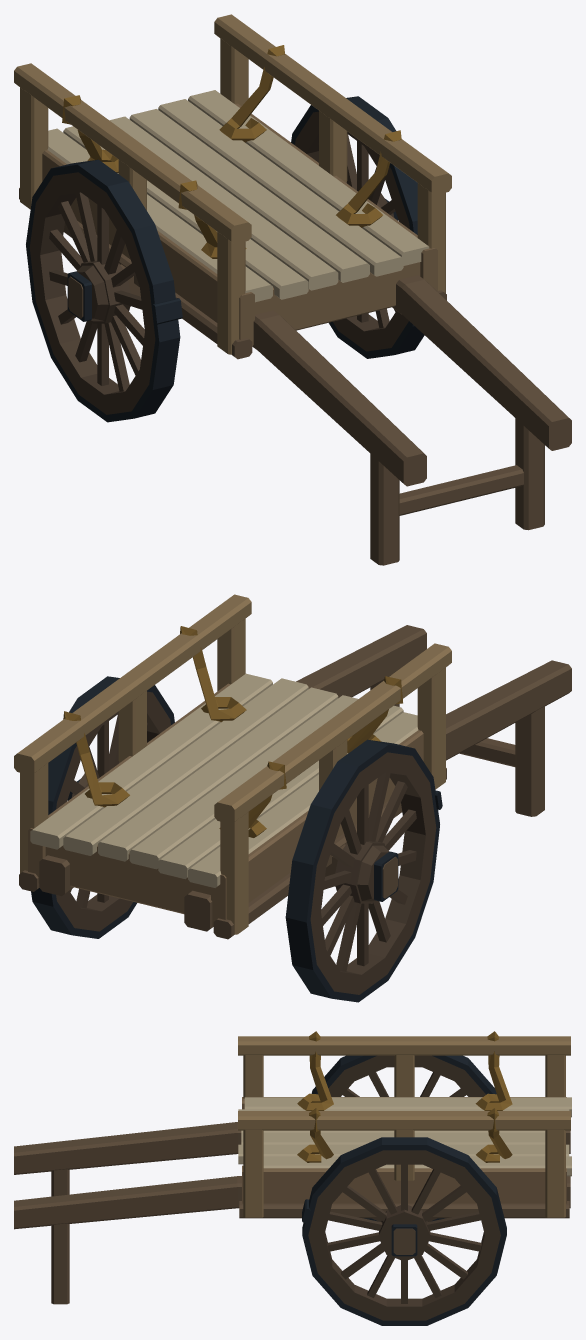
File: daihachiguruma-hand-cart-c026f3.glb
3 renders of one model, top to bottom at view 1: azimuth 30°, elevation 25°; view 2: azimuth 150°, elevation 25°; view 3: azimuth 270°, elevation 25°, orthographic. The views are drawn at different scales.
Parts seen in each view (by area): view 1: cart-body, wheel-left-mesh, wheel-right-mesh; view 2: cart-body, wheel-left-mesh, wheel-right-mesh; view 3: cart-body, wheel-right-mesh, wheel-left-mesh.
Boxes of the visible parts, x1,y1,x2,y2 form: cart-body: [14, 14, 571, 565]; wheel-left-mesh: [26, 159, 182, 422]; wheel-right-mesh: [291, 96, 424, 358]; cart-body: [14, 594, 571, 939]; wheel-left-mesh: [285, 739, 442, 1002]; wheel-right-mesh: [31, 676, 174, 938]; cart-body: [14, 1031, 571, 1304]; wheel-right-mesh: [302, 1137, 506, 1325]; wheel-left-mesh: [311, 1055, 496, 1221].
Size of the model in its own units: 1.5 by 1.19 by 3.
